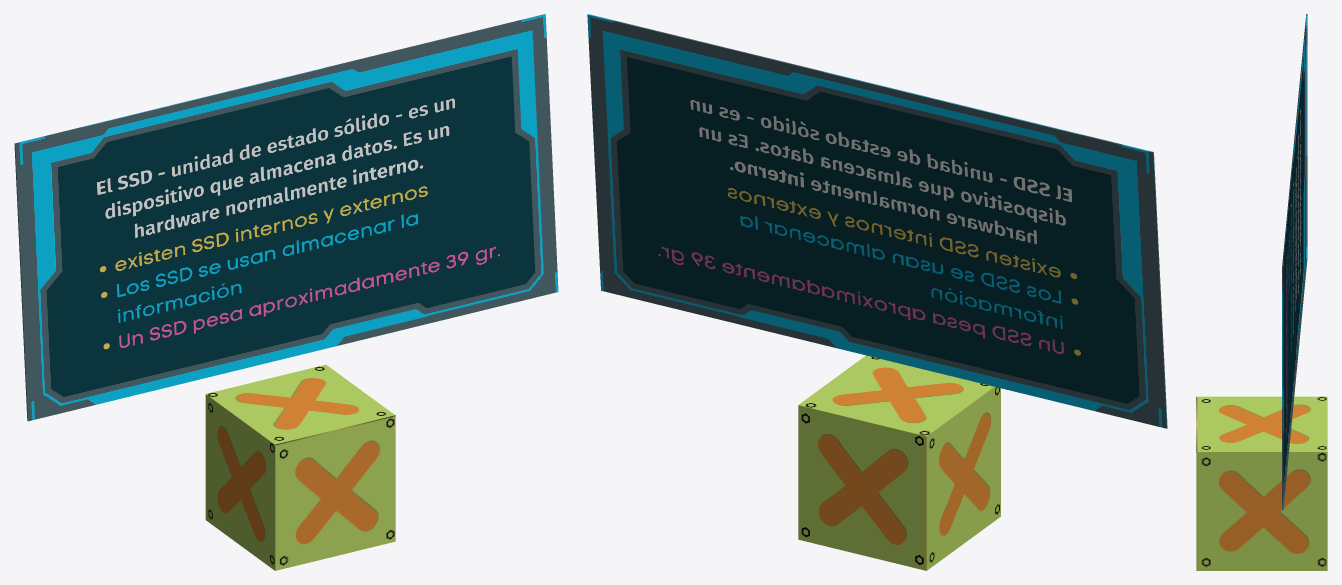
File: ssd-aux.glb
The picture shows the model from 3 angles, left to right: view 1: azimuth 30°, elevation 25°; view 2: azimuth 150°, elevation 25°; view 3: azimuth 270°, elevation 25°; orthographic projection. The views are drawn at different scales.
Visible parts, largest first — view 1: Plane, Cube; view 2: Plane, Cube; view 3: Cube, Plane.
Boxes of the visible parts, x1,y1,x2,y2 form: Plane: (14, 14, 558, 421); Cube: (205, 364, 395, 570); Plane: (587, 14, 1167, 428); Cube: (798, 355, 1000, 570); Cube: (1196, 396, 1327, 570); Plane: (1282, 14, 1307, 510).
Size of the model in its own units: 8.81 by 6.88 by 2.
Materials: 2 (2 with a texture image).
